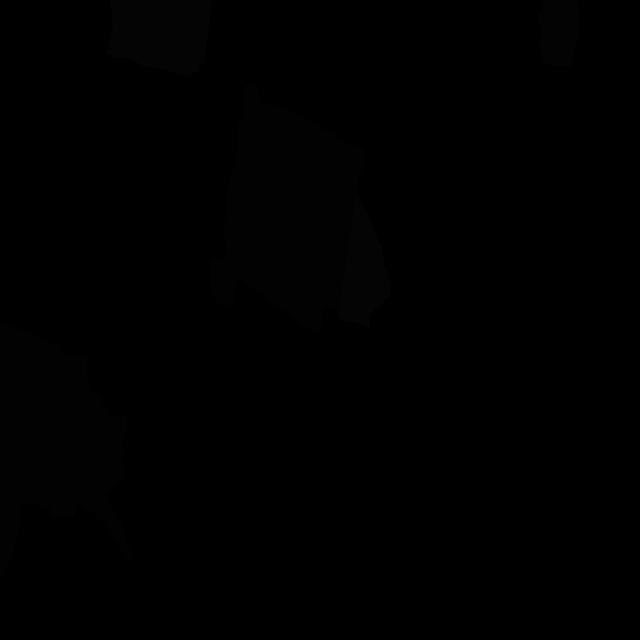cardboard: (210, 84, 366, 332), (0, 321, 134, 580)
metal: (538, 0, 580, 66)
soft_plastic: (106, 0, 212, 76), (338, 195, 391, 328)
